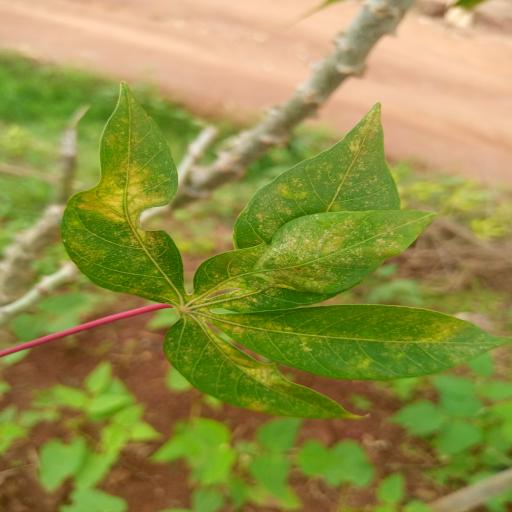Cassava_Mosaic: (64, 87, 501, 424)
